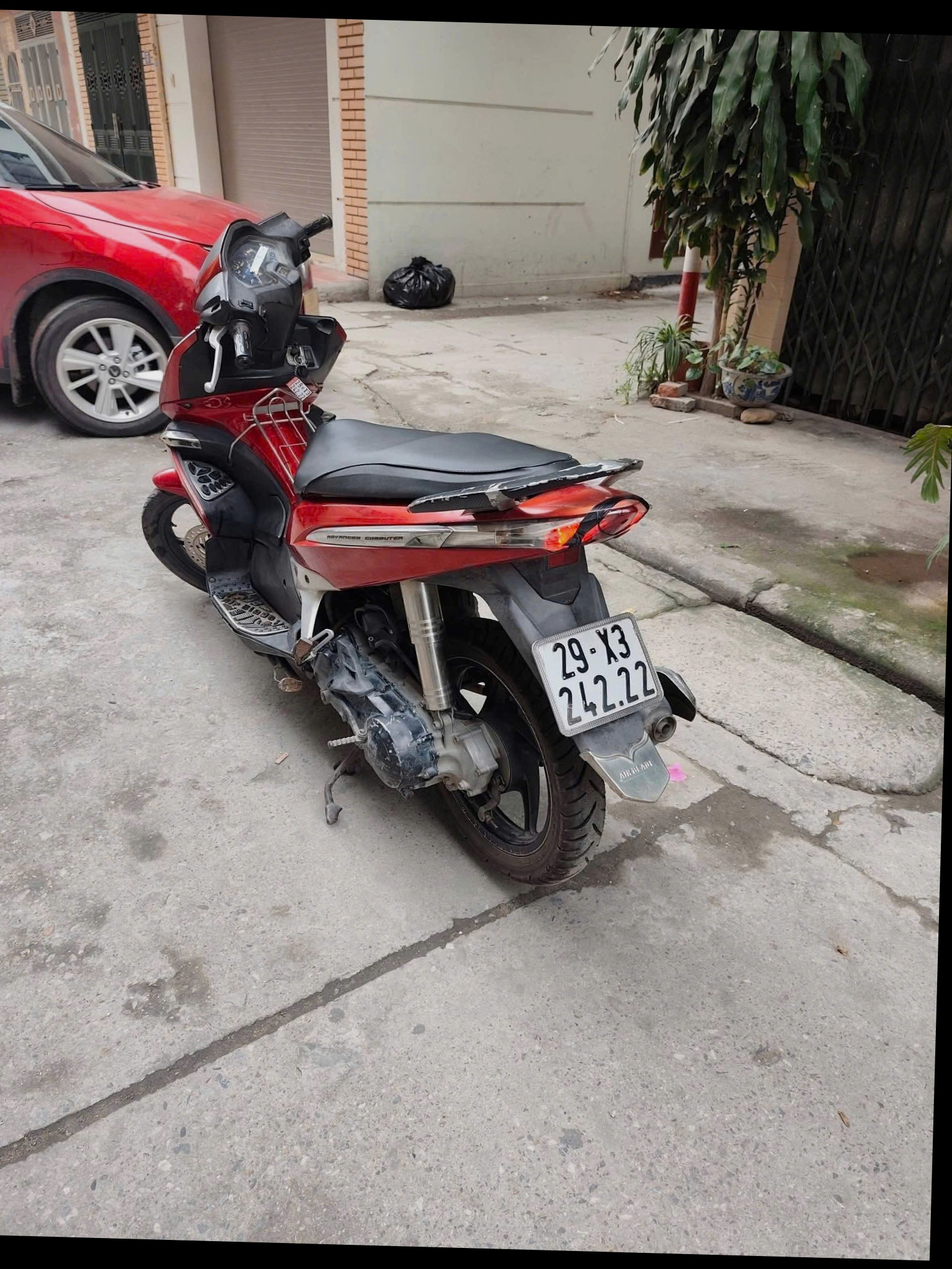Bien-so: (527, 613, 673, 738)
